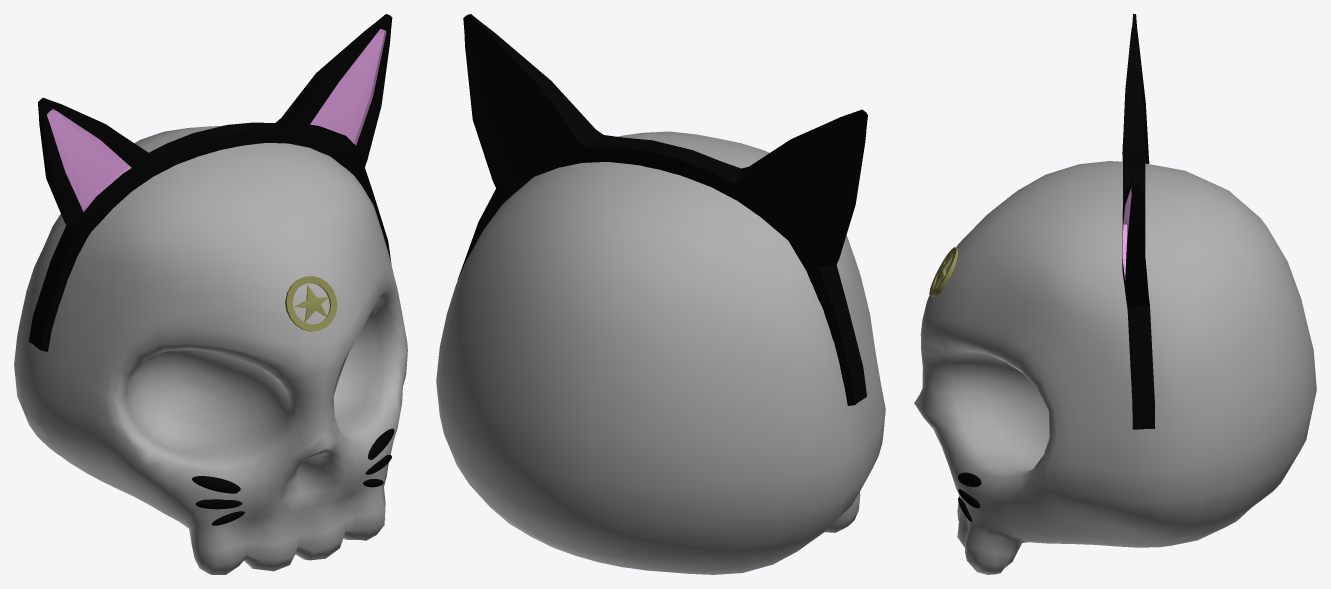
File: calavera_laura.fbx
3 views of the same model, side by side, from view 1: azimuth 30°, elevation 25°; view 2: azimuth 150°, elevation 25°; view 3: azimuth 270°, elevation 25° (orthographic). The views are drawn at different scales.
Parts seen in each view (by area): view 1: calavera_laura, calavera_laura_diadema, calavera_laura_bigotes, calavera_laura_deco; view 2: calavera_laura, calavera_laura_diadema; view 3: calavera_laura, calavera_laura_diadema, calavera_laura_deco, calavera_laura_bigotes.
Part boxes in pixels (x1=…): calavera_laura: x1=14, y1=125, x2=407, y2=574; calavera_laura_diadema: x1=28, y1=14, x2=392, y2=351; calavera_laura_bigotes: x1=192, y1=428, x2=394, y2=525; calavera_laura_deco: x1=285, y1=276, x2=337, y2=331; calavera_laura: x1=436, y1=131, x2=885, y2=574; calavera_laura_diadema: x1=457, y1=14, x2=867, y2=405; calavera_laura: x1=914, y1=161, x2=1316, y2=574; calavera_laura_diadema: x1=1122, y1=14, x2=1155, y2=429; calavera_laura_deco: x1=929, y1=247, x2=957, y2=297; calavera_laura_bigotes: x1=958, y1=472, x2=981, y2=521.
Bounding box in the file's own units: 6.7 × 8.17 × 6.69.
